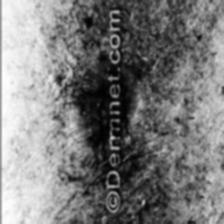Potentially Malignant Skin Tumors: (82, 64, 108, 155), (117, 66, 136, 140)
